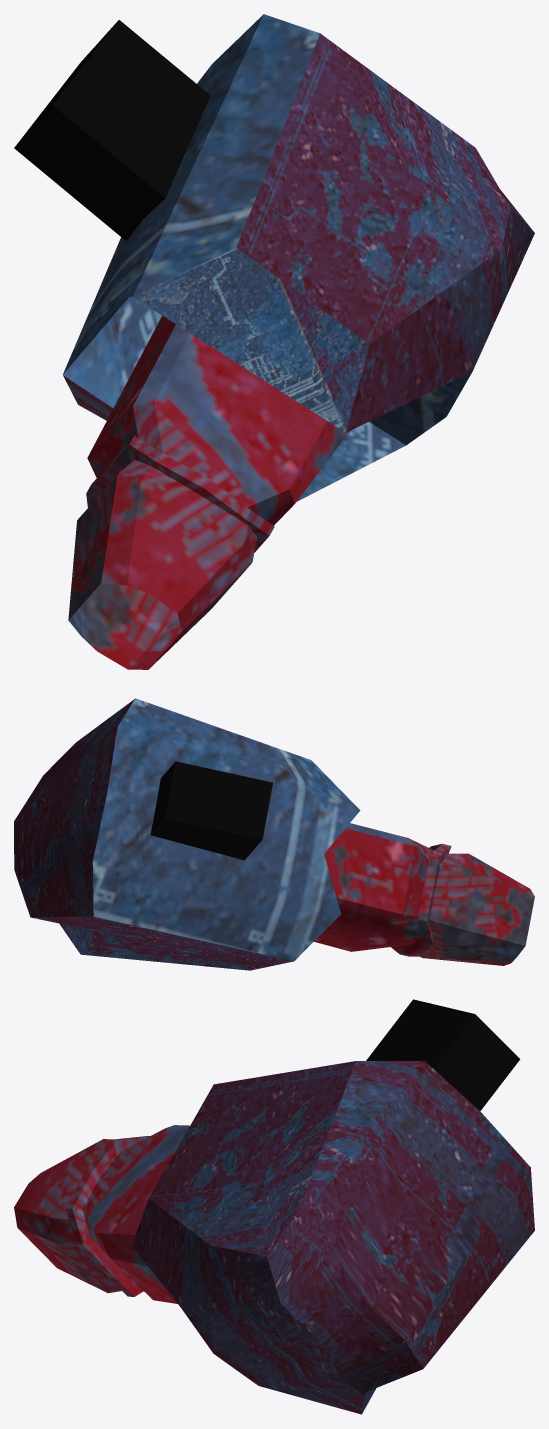
The model's file is peice1.glb.
The picture shows the model from 3 angles, top to bottom: view 1: azimuth 30°, elevation 25°; view 2: azimuth 150°, elevation 25°; view 3: azimuth 270°, elevation 25°; orthographic projection. The views are drawn at different scales.
Parts seen in each view (by area): view 1: UpperArm.L; view 2: UpperArm.L; view 3: UpperArm.L.
Boxes of the visible parts, x1,y1,x2,y2 form: UpperArm.L: [14, 14, 534, 669]; UpperArm.L: [14, 698, 534, 970]; UpperArm.L: [14, 999, 534, 1414].
Size of the model in its own units: 1.64 by 1.15 by 1.54.
Materials: 1 (1 with a texture image).
